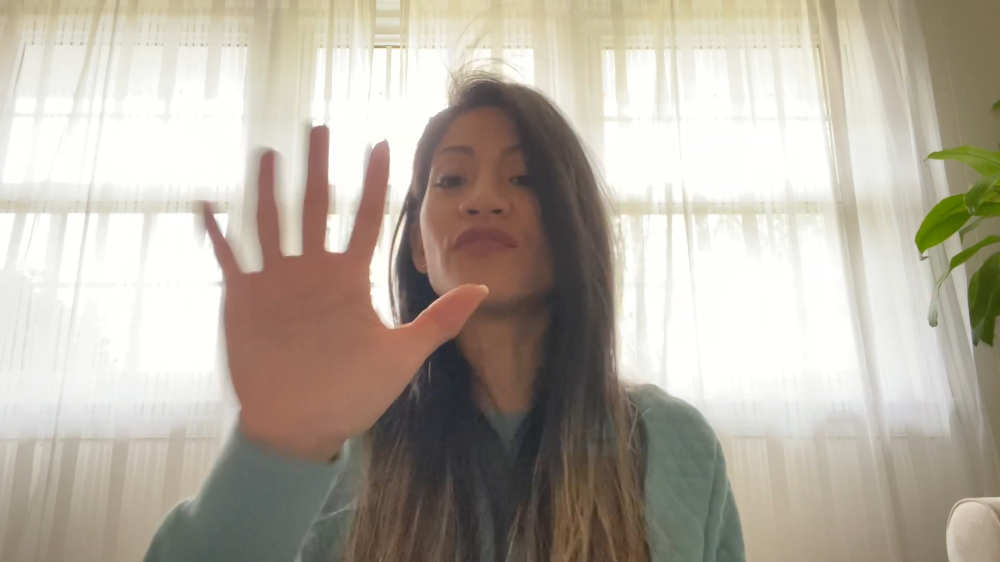hello: (195, 122, 492, 447)
